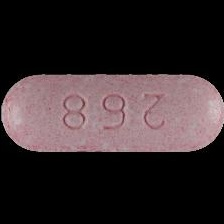0904-6172: (0, 0, 224, 224)
